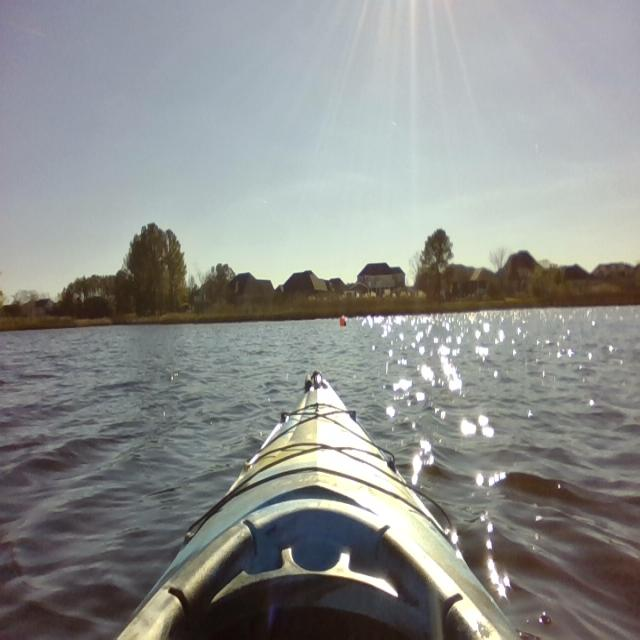Buoy: (338, 313, 349, 331)
